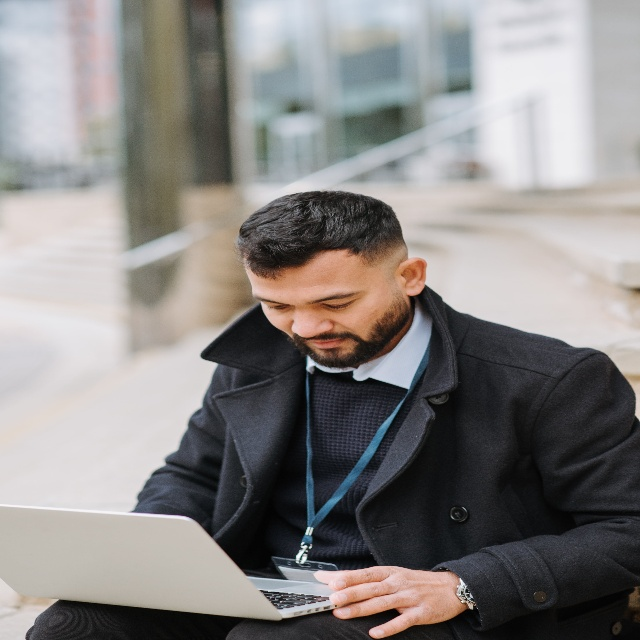Sin_guantes: (325, 569, 466, 635)
